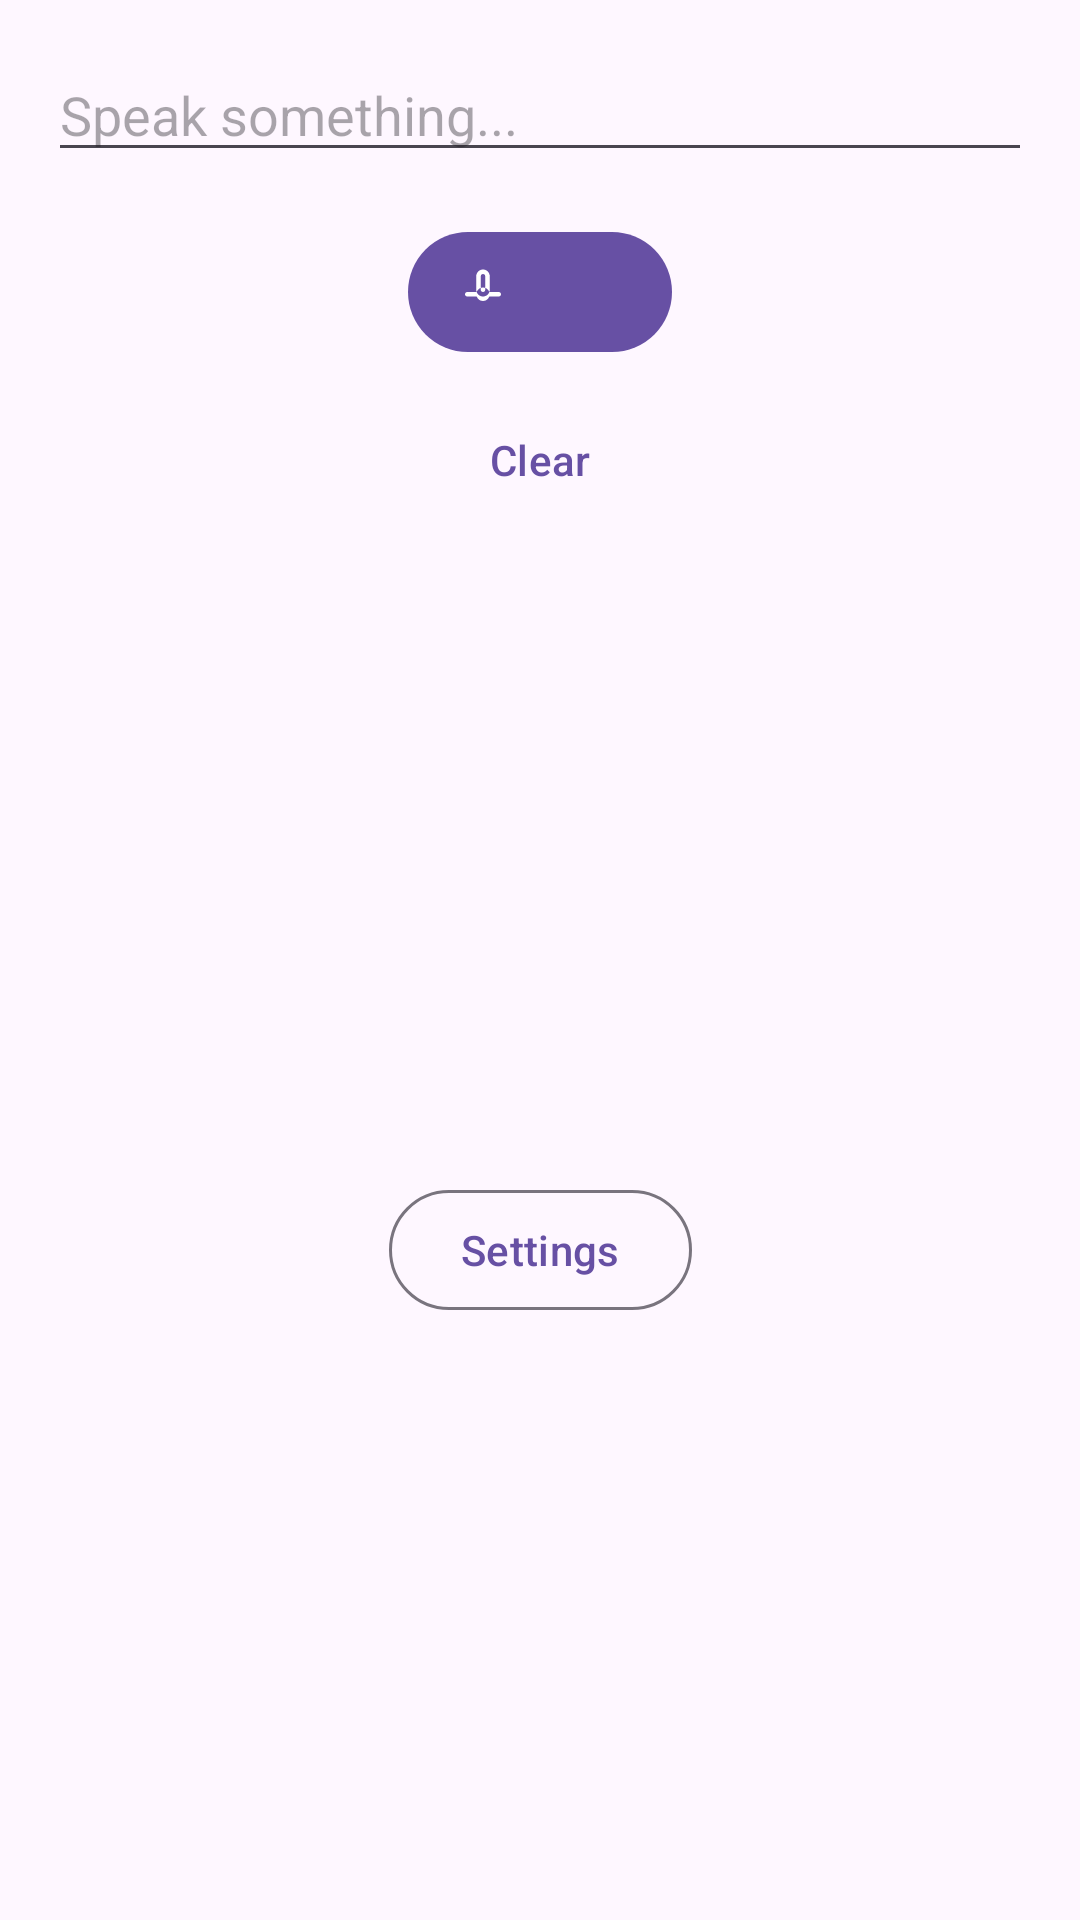

Icon click points for this 1080px×1920px phone screenshot, format point (x, y):
mic: point (540, 292)
